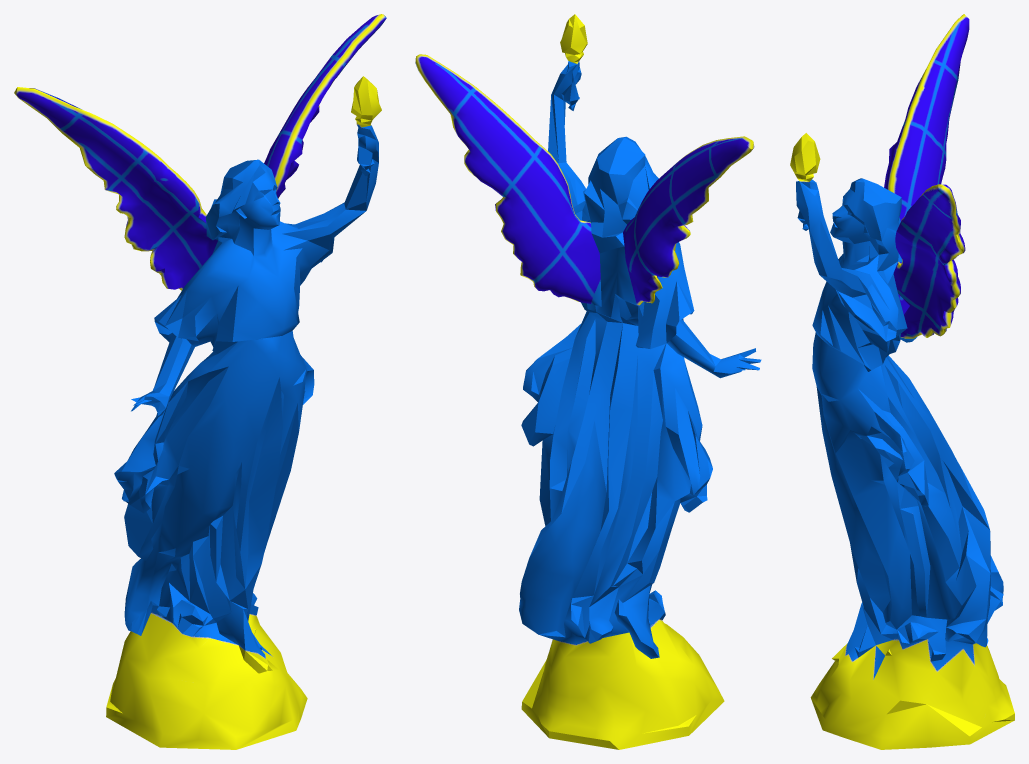
File: angel_statue2.FBX
3 views of the same model, side by side, from view 1: azimuth 30°, elevation 25°; view 2: azimuth 150°, elevation 25°; view 3: azimuth 270°, elevation 25° (orthographic). The views are drawn at different scales.
Parts seen in each view (by area): view 1: Object001; view 2: Object001; view 3: Object001.
Part boxes in pixels (left/top/right/bottom): Object001: left=14, top=14, right=386, bottom=749; Object001: left=415, top=14, right=761, bottom=749; Object001: left=790, top=14, right=1014, bottom=749.
Bounding box in the file's own units: 101 × 56.76 × 174.
1 material, 1 textured.
